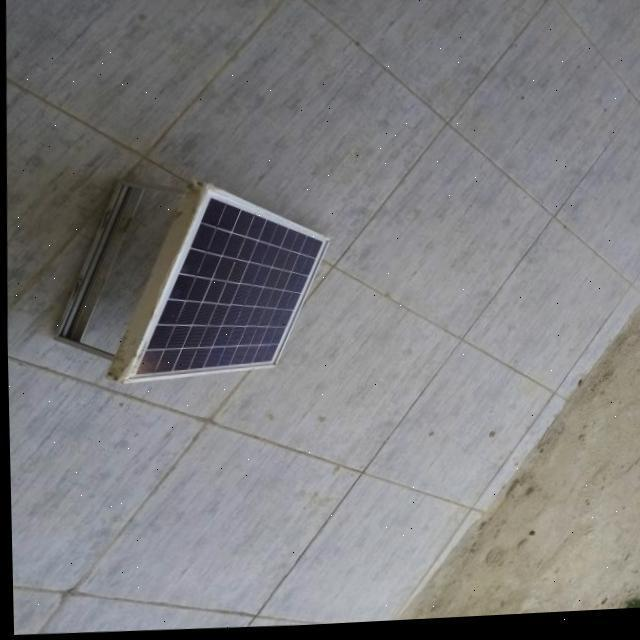Normal Solar Panel: (115, 176, 333, 390)
